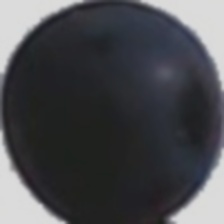grapes: (19, 36, 176, 207)
